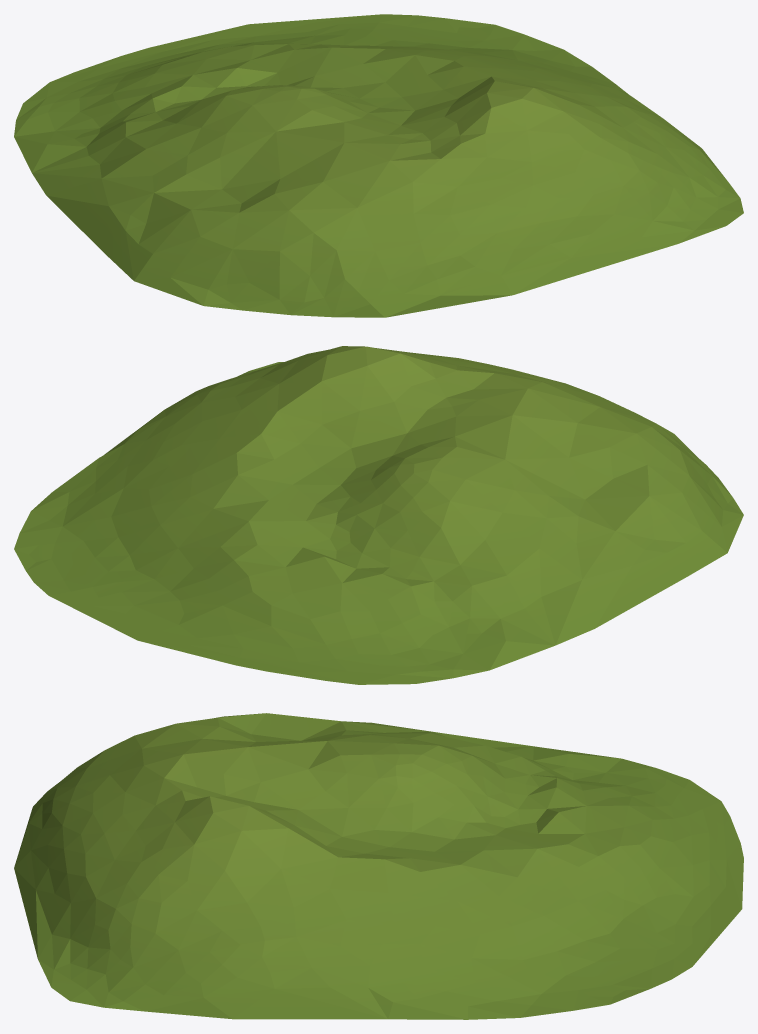
Rendered from Hill_03.glb.
3 views of the same model, one above another, from view 1: azimuth 30°, elevation 25°; view 2: azimuth 150°, elevation 25°; view 3: azimuth 270°, elevation 25° (orthographic). The views are drawn at different scales.
Visible parts, largest first — view 1: Hill_03; view 2: Hill_03; view 3: Hill_03.
Part boxes in pixels (box(x1,y1,x2,y2)): Hill_03: box(14, 14, 743, 317); Hill_03: box(14, 346, 743, 684); Hill_03: box(14, 713, 743, 1019).
Bounding box in the file's own units: 57.68 × 10.09 × 61.13.
1 material, 1 textured.
